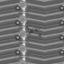dust: (29, 28, 33, 33), (35, 28, 38, 31)
